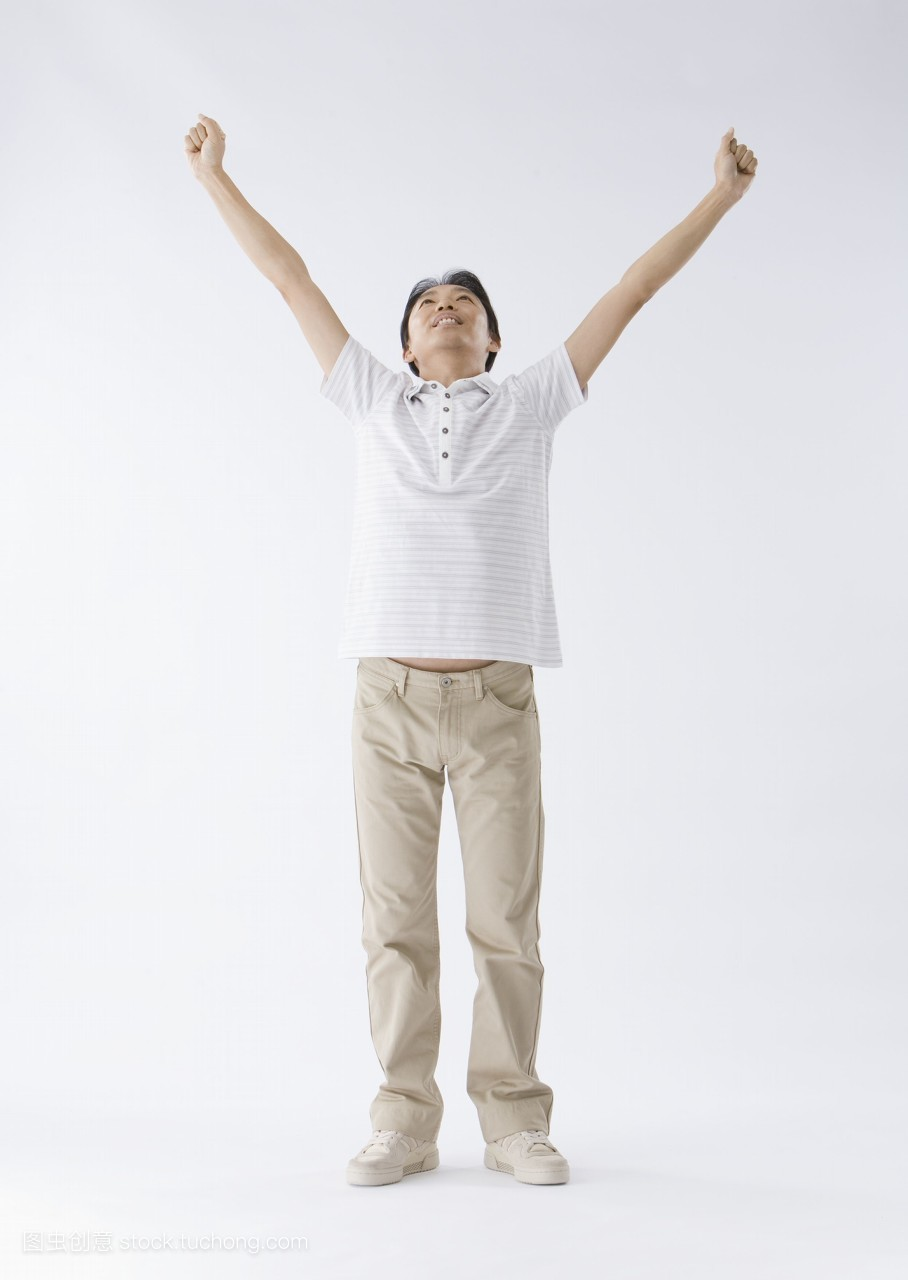handsup: (171, 92, 763, 1190)
